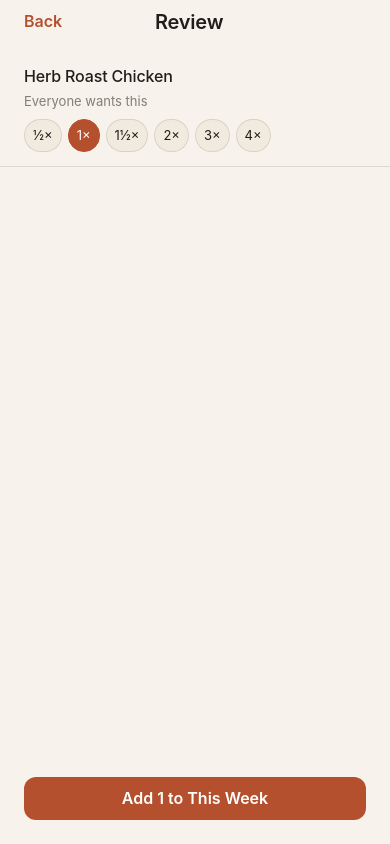
group round (#242) › leaves quietly if the round was set aside meanwhile
The image size is (390, 844).
Expected: the text "Herb Roast Chicken" is shown, [24,66,173,86]
Click the button with test id "review-submit". click: point(195, 798)
box: [24,777,366,820]
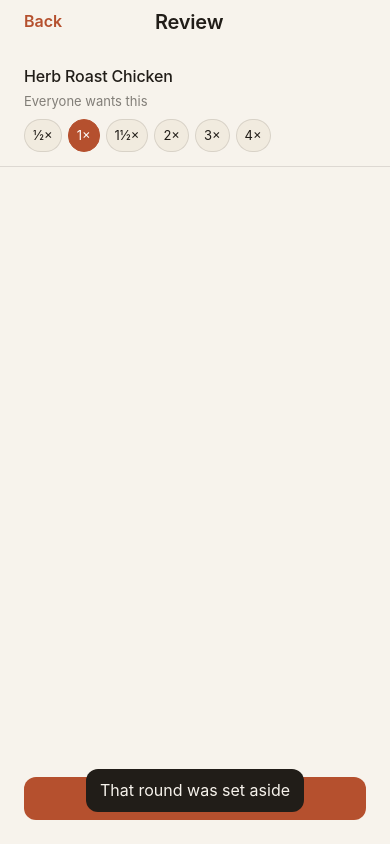
Result: the text "That round was set aside" is shown at [100,777,290,804]
